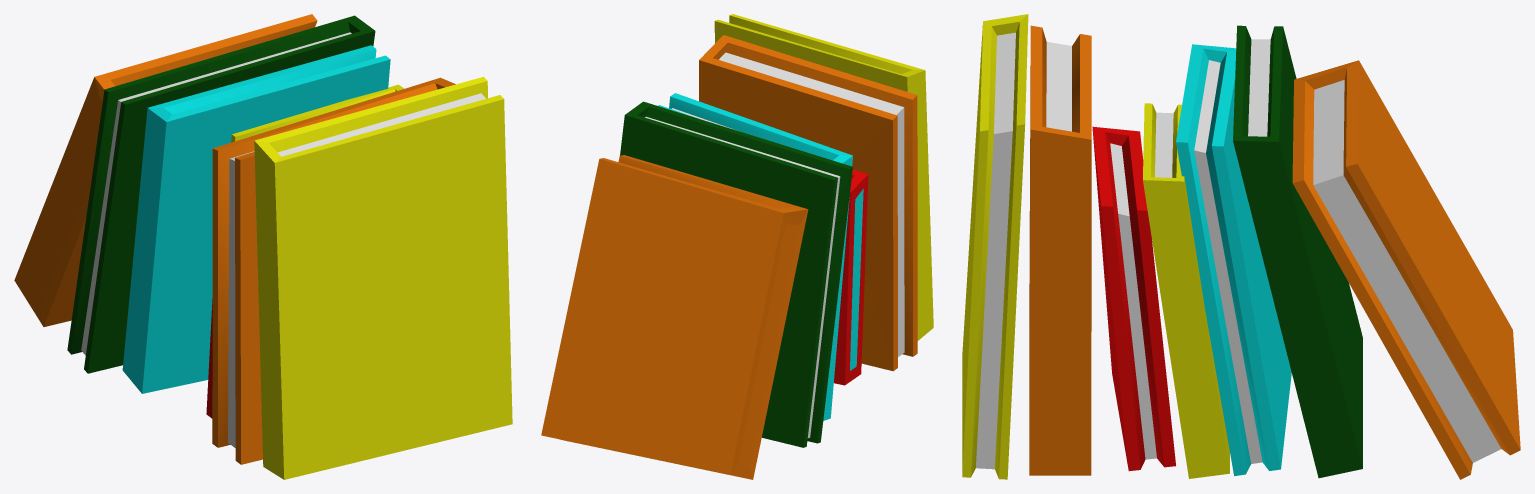
File: Books_3.fbx
3 views of the same model, side by side, from view 1: azimuth 30°, elevation 25°; view 2: azimuth 150°, elevation 25°; view 3: azimuth 270°, elevation 25° (orthographic). The views are drawn at different scales.
Visible parts, largest first — view 1: Books_3; view 2: Books_3; view 3: Books_3.
Part boxes in pixels (x1,y1,x2,y2): Books_3: (14,14,512,479); Books_3: (541,14,933,479); Books_3: (962,14,1520,479).
Bounding box in the file's own units: 28.65 × 35.73 × 49.11.
